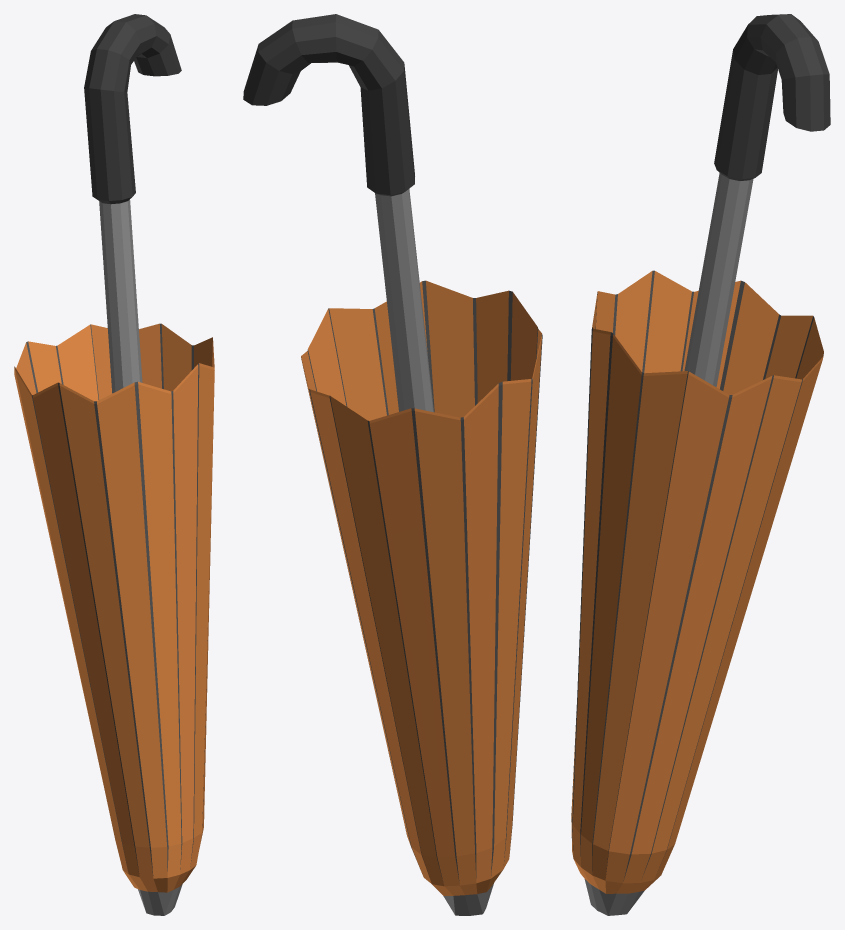
File: Closed_Umbrella.fbx
3 renders of one model, left to right at view 1: azimuth 30°, elevation 25°; view 2: azimuth 150°, elevation 25°; view 3: azimuth 270°, elevation 25°, orthographic. The views are drawn at different scales.
Visible parts, largest first — view 1: Closed_Umbrella; view 2: Closed_Umbrella; view 3: Closed_Umbrella.
Part boxes in pixels (left/top/right/bottom): Closed_Umbrella: left=14, top=14, right=214, bottom=915; Closed_Umbrella: left=243, top=14, right=542, bottom=915; Closed_Umbrella: left=571, top=14, right=830, bottom=915.
Bounding box in the file's own units: 29.36 × 29.96 × 117.
